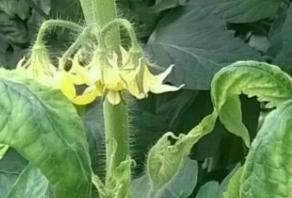Tomato leaf yellow virus: (0, 70, 95, 198), (230, 95, 292, 198)
